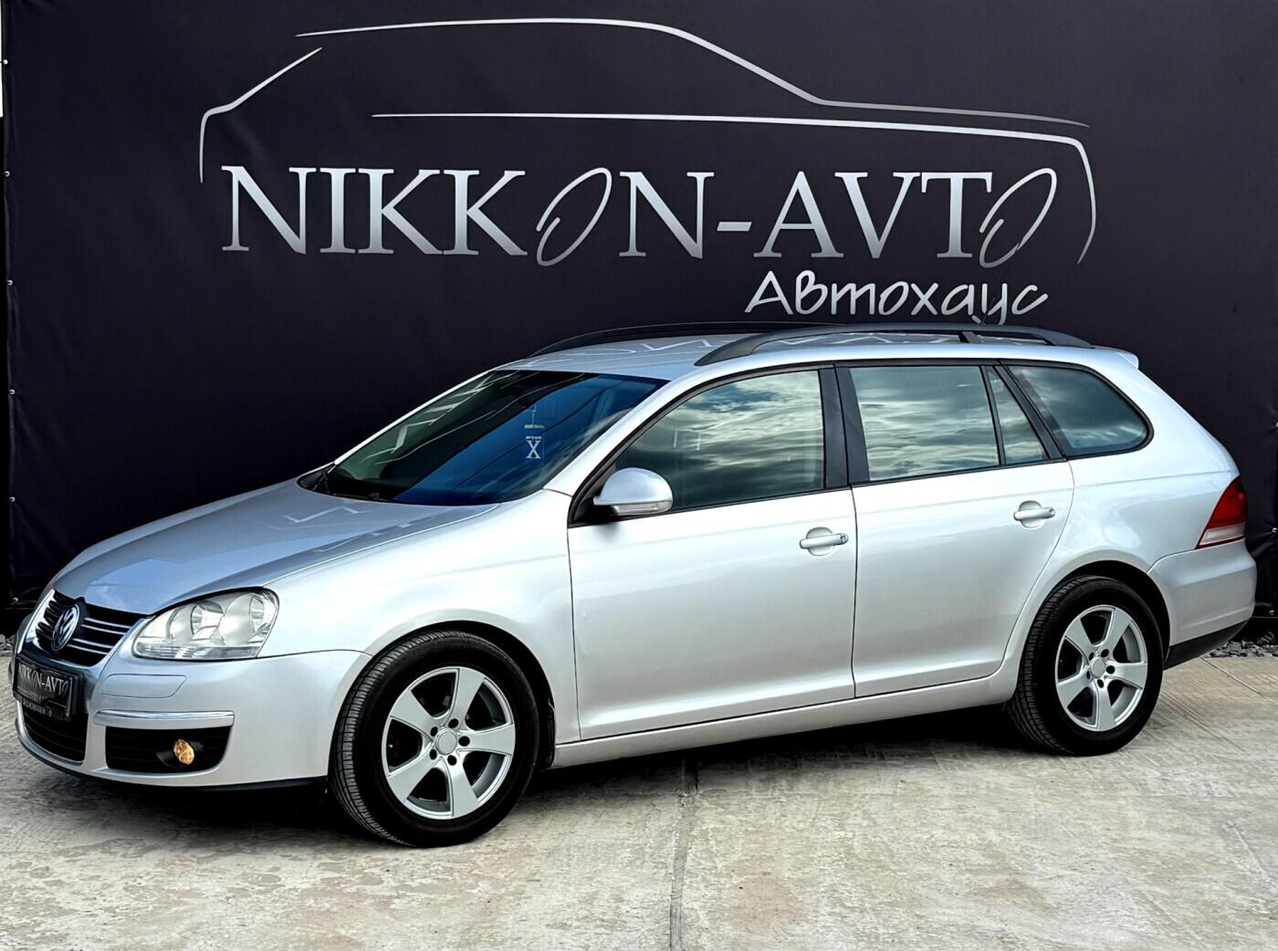Golf_2003-2009: (4, 320, 1263, 841)
